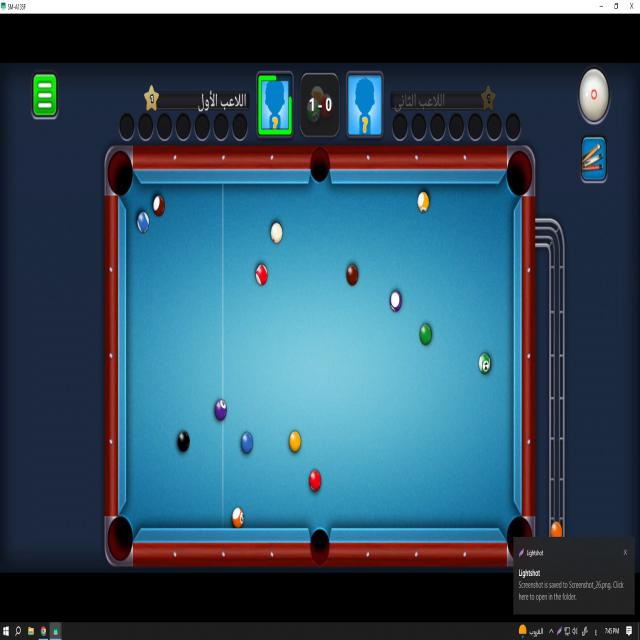object_ball: (478, 353, 491, 374), (289, 431, 301, 452), (241, 432, 253, 453), (256, 264, 267, 286), (347, 265, 358, 286), (310, 470, 321, 491), (178, 431, 189, 452), (215, 400, 226, 421), (420, 324, 431, 345), (137, 212, 148, 232), (153, 196, 164, 216), (390, 291, 401, 311), (418, 192, 429, 212), (232, 508, 243, 527)
white_cue_ball: (271, 223, 282, 243)
